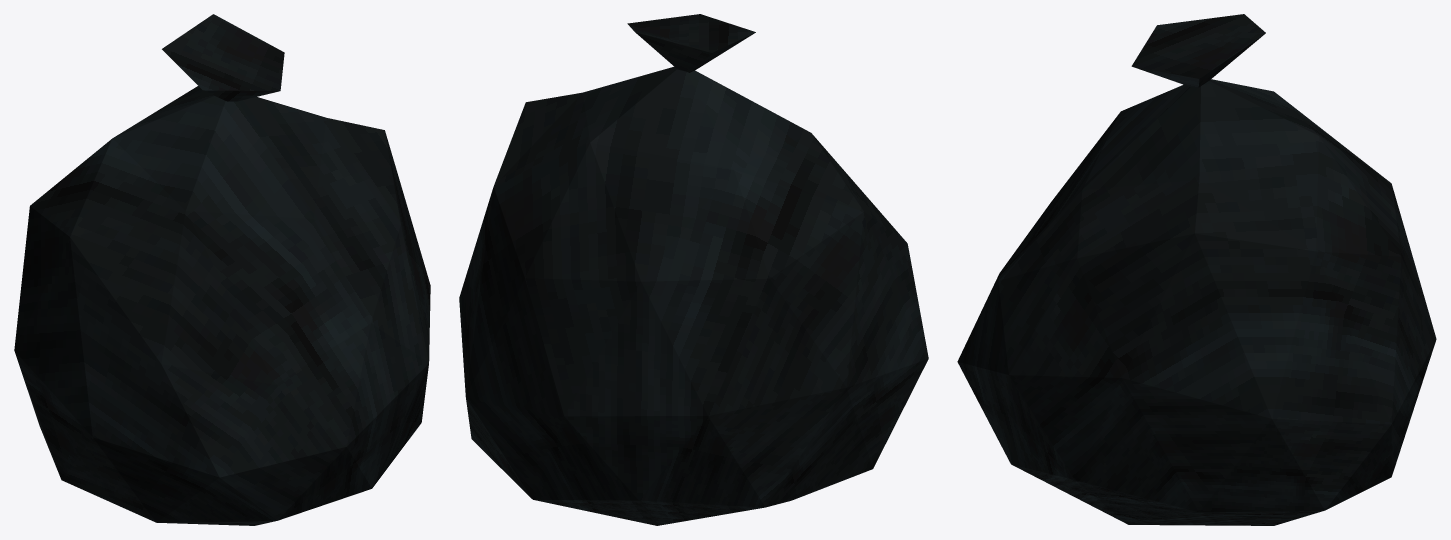
The model's file is GarbageBag.fbx.
3 views of the same model, side by side, from view 1: azimuth 30°, elevation 25°; view 2: azimuth 150°, elevation 25°; view 3: azimuth 270°, elevation 25° (orthographic). The views are drawn at different scales.
Parts seen in each view (by area): view 1: GarbageBag; view 2: GarbageBag; view 3: GarbageBag.
Boxes of the visible parts, box(x1,y1,x2,y2) form: GarbageBag: box(14, 14, 430, 525); GarbageBag: box(459, 14, 928, 525); GarbageBag: box(957, 14, 1436, 525).
Bounding box in the file's own units: 186 × 215 × 204.
1 material, 1 textured.
